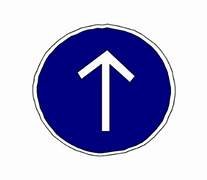forward: (31, 22, 175, 158)
